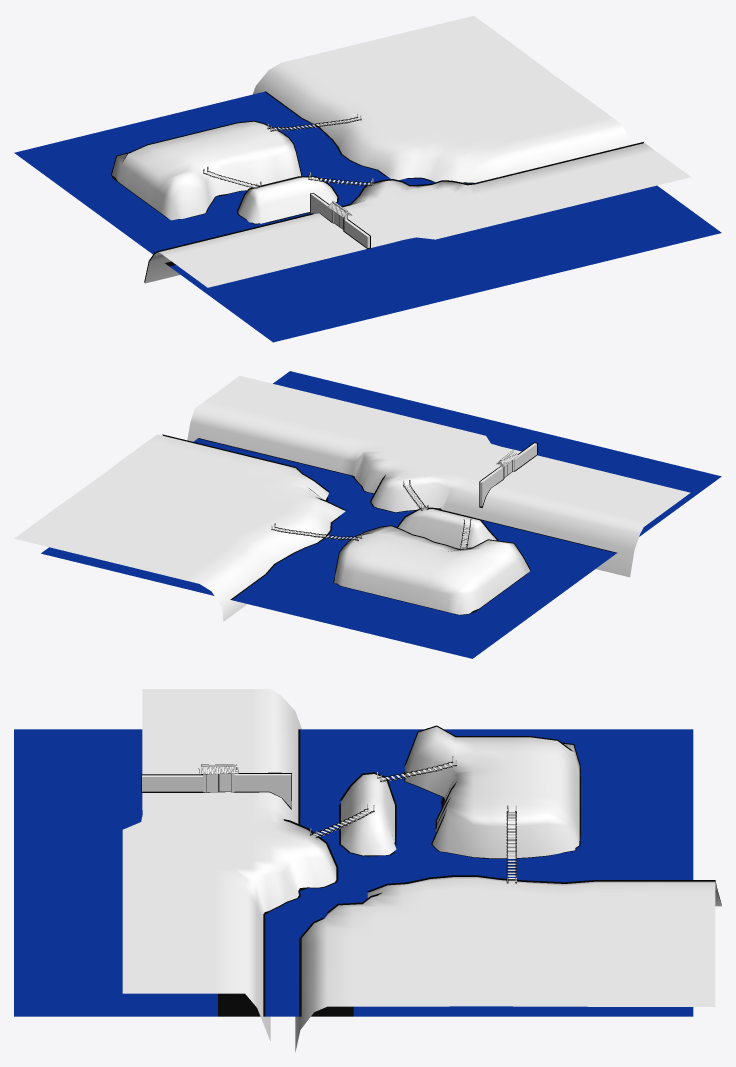
File: Level_One_Geometry_v2.fbx
The picture shows the model from 3 angles, top to bottom: view 1: azimuth 30°, elevation 25°; view 2: azimuth 150°, elevation 25°; view 3: azimuth 270°, elevation 25°; orthographic projection. The views are drawn at different scales.
Parts seen in each view (by area): view 1: pPlane5, polySurface2, polySurface1, polySurface4, polySurface3, pCube99, polySurface10; view 2: polySurface1, pPlane5, polySurface2, polySurface4, polySurface3, pCube99; view 3: pPlane5, polySurface2, polySurface1, polySurface4, polySurface3, pCube99, polySurface9, polySurface12.
Part boxes in pixels (bbox=[...]): pPlane5: bbox=[14, 91, 721, 342]; polySurface2: bbox=[252, 15, 630, 182]; polySurface1: bbox=[145, 143, 690, 287]; polySurface4: bbox=[112, 121, 301, 220]; polySurface3: bbox=[238, 177, 337, 223]; pCube99: bbox=[310, 193, 370, 248]; polySurface10: bbox=[144, 142, 643, 282]; polySurface1: bbox=[187, 376, 690, 577]; pPlane5: bbox=[41, 371, 721, 658]; polySurface2: bbox=[14, 434, 345, 621]; polySurface4: bbox=[334, 526, 529, 614]; polySurface3: bbox=[398, 509, 496, 548]; pCube99: bbox=[479, 442, 537, 508]; pPlane5: bbox=[14, 729, 693, 1016]; polySurface2: bbox=[295, 877, 721, 1052]; polySurface1: bbox=[122, 689, 336, 1041]; polySurface4: bbox=[405, 726, 579, 858]; polySurface3: bbox=[341, 774, 396, 855]; pCube99: bbox=[141, 764, 291, 809]; polySurface9: bbox=[300, 875, 721, 937]; polySurface12: bbox=[404, 725, 580, 843].
Size of the model in its own units: 80.76 by 10.04 by 76.6.
